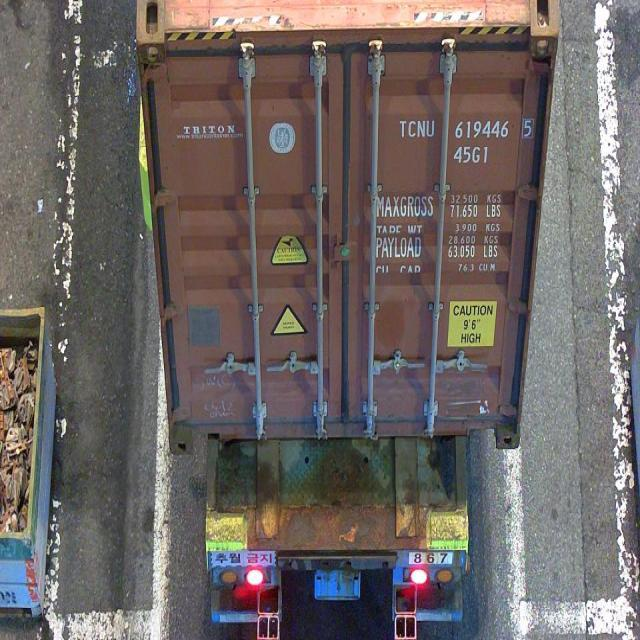ISO: (452, 144, 490, 166)
container_number: (400, 117, 534, 142)
